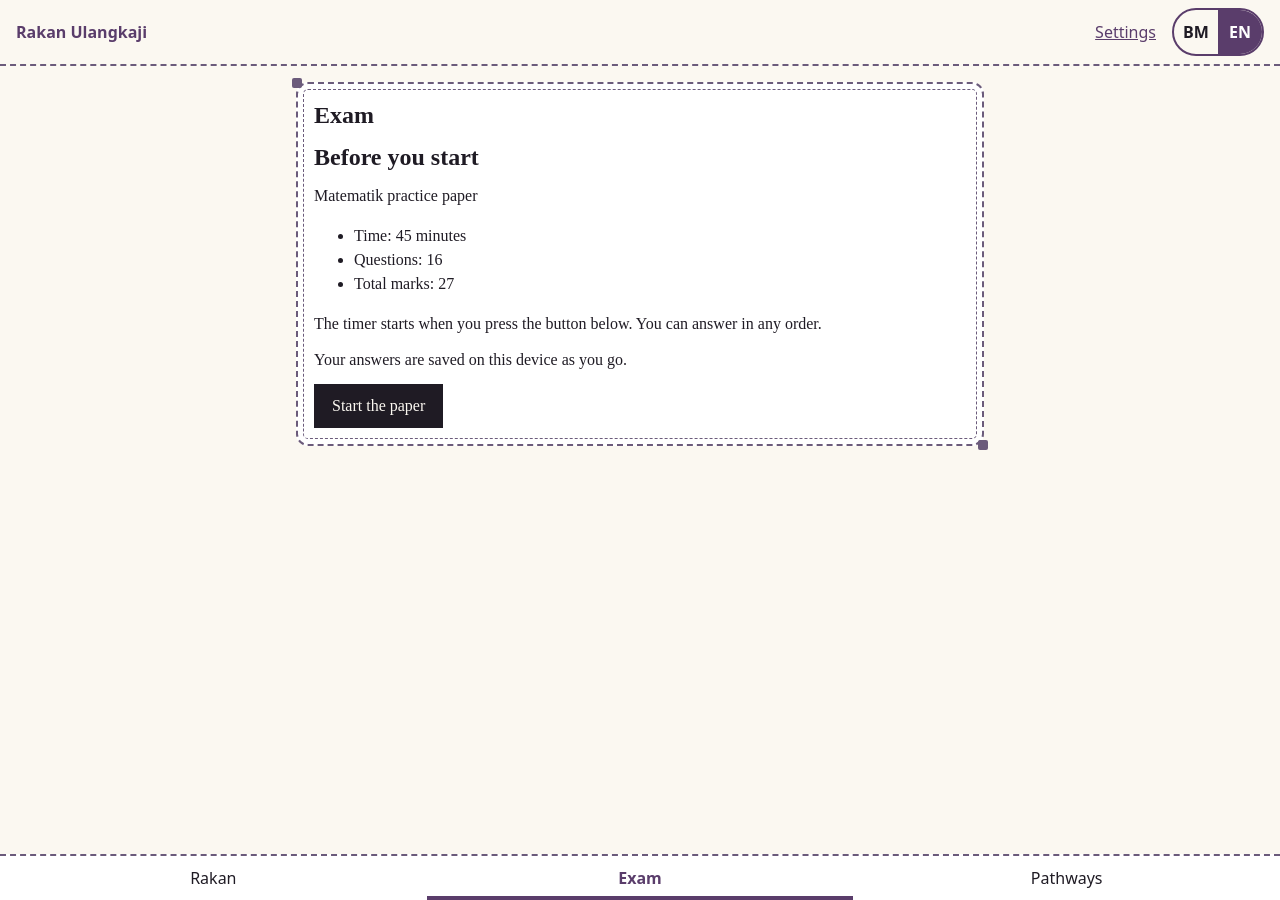
exam flow › keeps answers when the language changes, and the timer keeps its start time
The width and height of the screenshot is (1280, 900).
Click the button "Start the paper" at (379, 406), box [314,384,443,428]
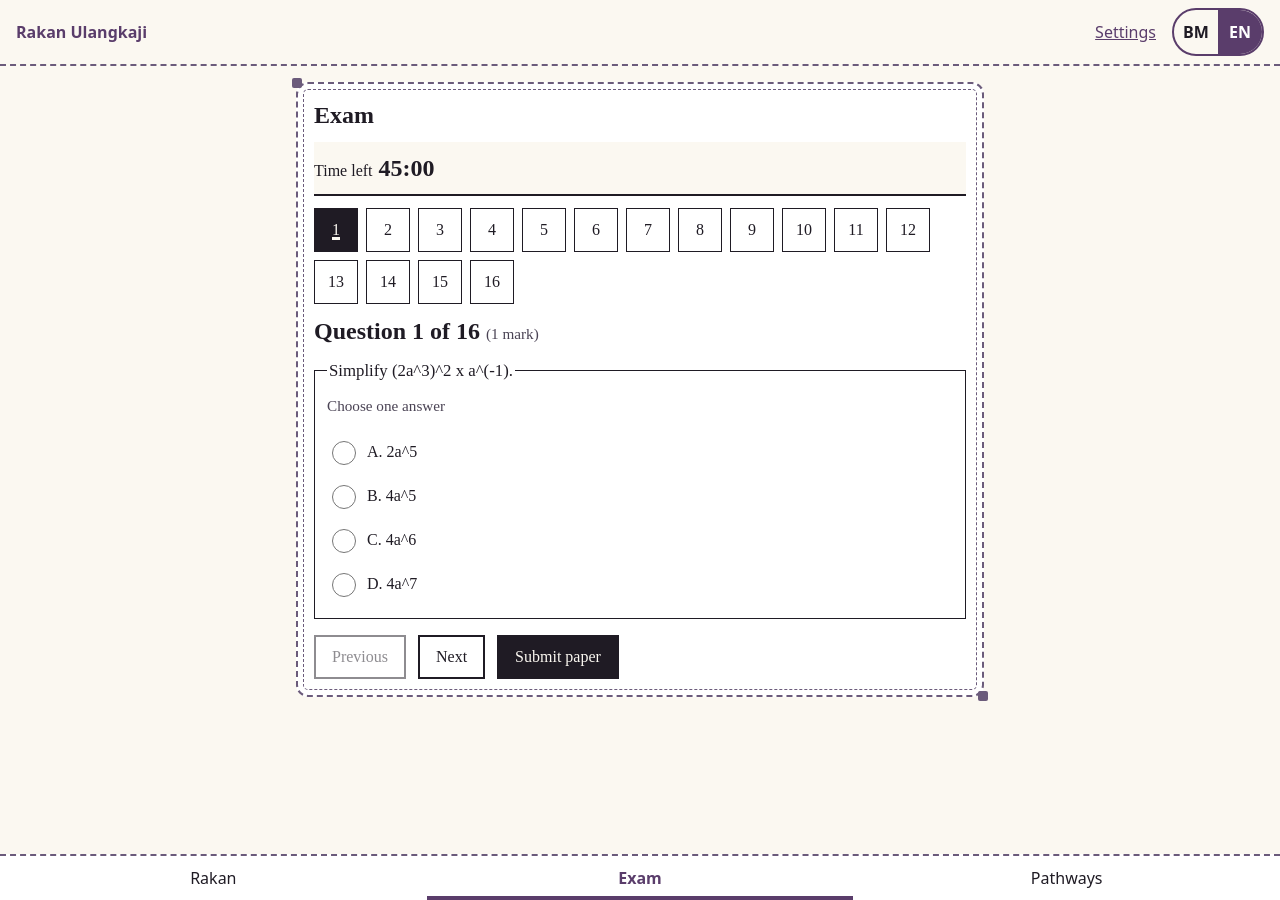
Click the radio button labelled "B. 4a^5" at (344, 498), box [332,486,356,510]
Wait 30000 ms
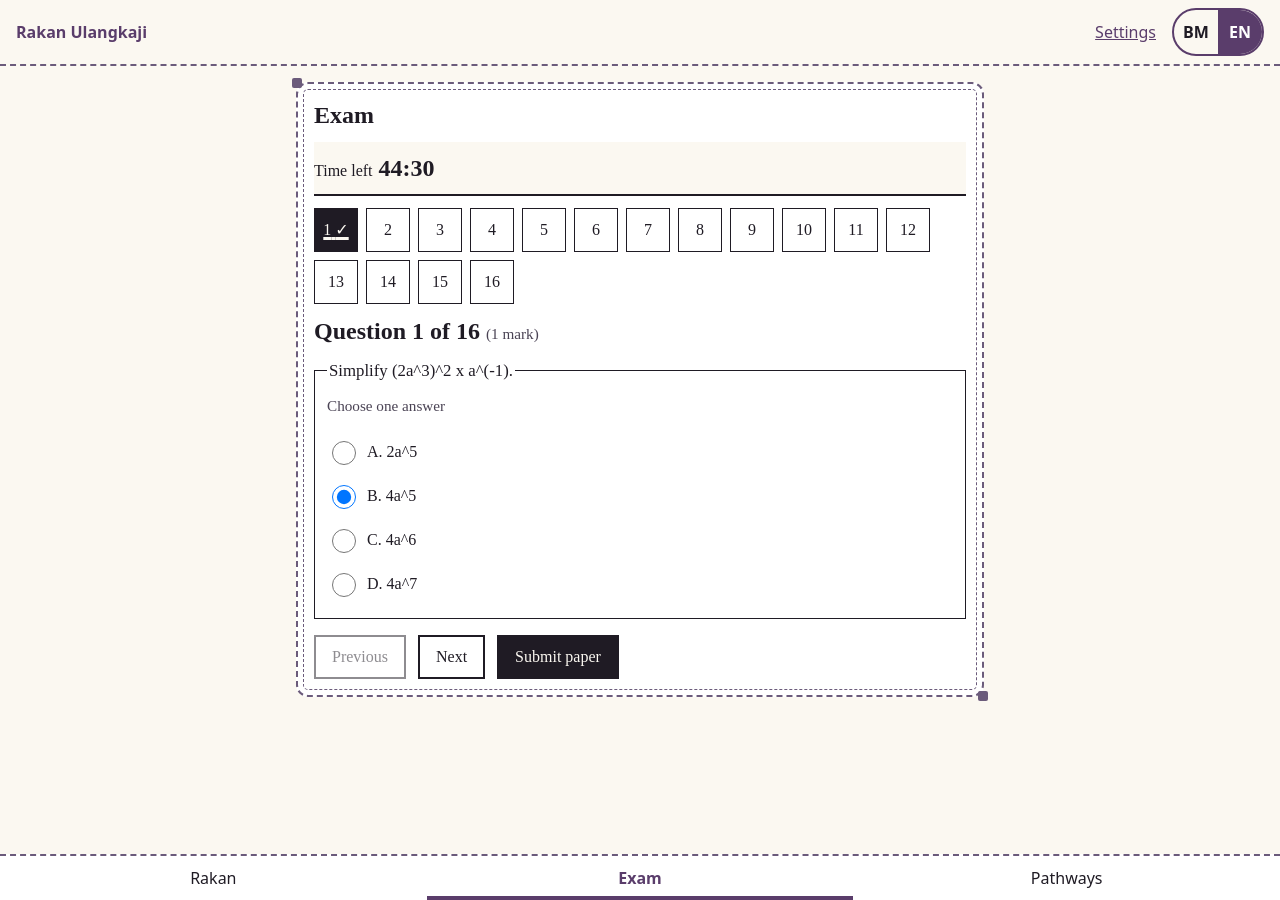
Click the button "BM" at (1196, 32), box [1174,10,1218,54]
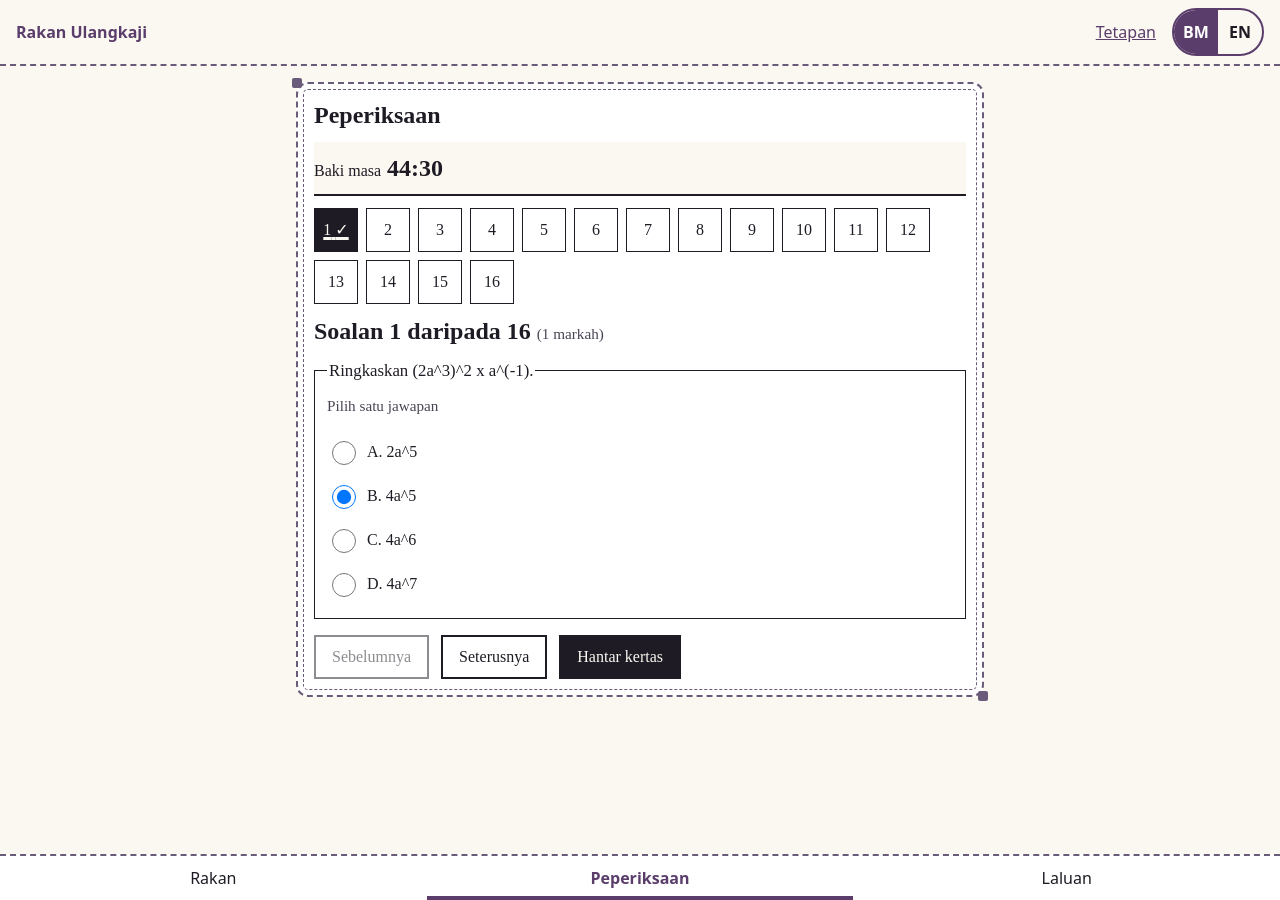
Check: the radio button labelled "B. 4a^5" is checked, box [332,486,356,510]
Check: the element showing "Baki masa 44:30" is shown, box [314,155,443,181]
Check: the button "Hantar kertas" is shown, box [559,635,681,679]
